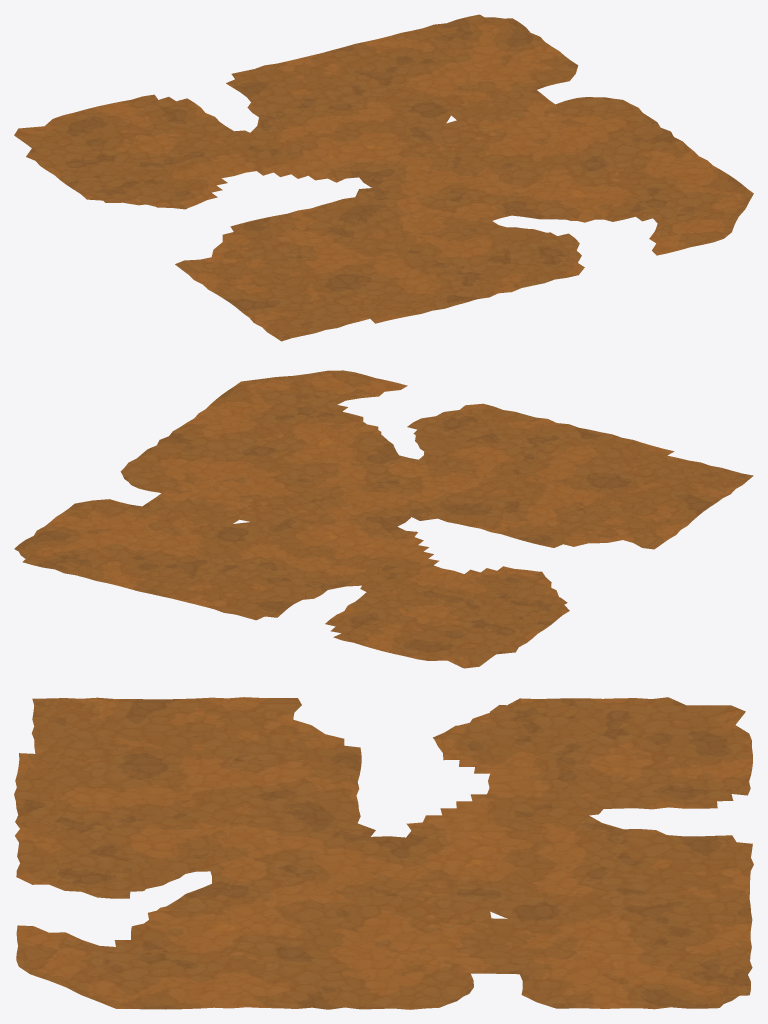
The model's file is Floor_Room4.fbx.
3 views of the same model, one above another, from view 1: azimuth 30°, elevation 25°; view 2: azimuth 150°, elevation 25°; view 3: azimuth 270°, elevation 25° (orthographic). The views are drawn at different scales.
Visible parts, largest first — view 1: UpperFloor; view 2: UpperFloor; view 3: UpperFloor.
Part boxes in pixels (bbox=[...]): UpperFloor: bbox=[14, 14, 753, 341]; UpperFloor: bbox=[14, 370, 753, 668]; UpperFloor: bbox=[14, 697, 753, 1009].
Bounding box in the file's own units: 1787 × 0.0317 × 1787.
